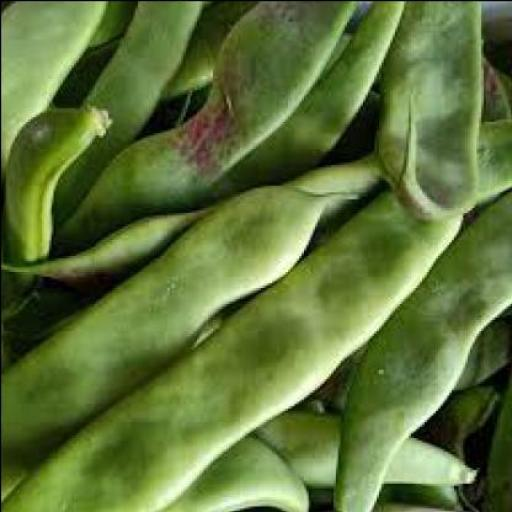biodegradable: (2, 189, 464, 511), (2, 188, 339, 501), (2, 116, 511, 288), (56, 2, 360, 253), (336, 192, 511, 511), (212, 2, 407, 207), (52, 2, 205, 232), (2, 104, 119, 326), (376, 2, 482, 226), (2, 2, 110, 191), (252, 409, 480, 487), (330, 314, 511, 390), (154, 430, 312, 512), (426, 389, 500, 450), (486, 372, 511, 510), (480, 52, 511, 122)
